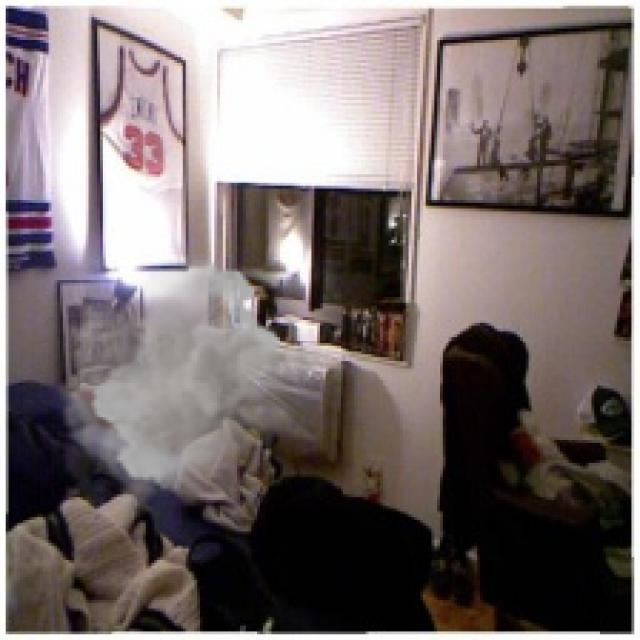smoke: (54, 254, 334, 529)
